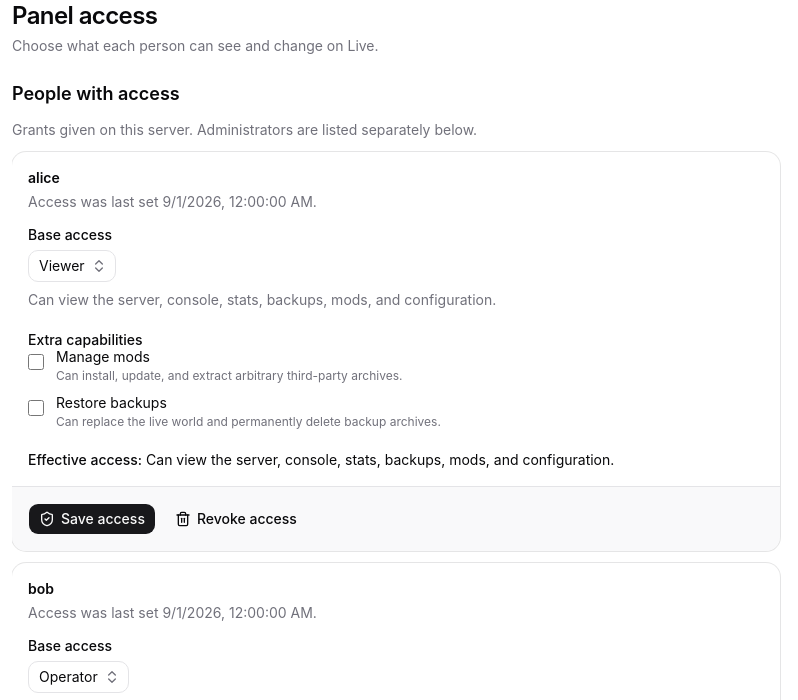
Test: unsaved edits while another person changes › overwrites a stale grant with the current etag and leaves other edits alone
The image size is (798, 700).
Click the checkbox labelled "Manage mods".
click(36, 362)  # box [28,354,44,370]
(page scrolled)
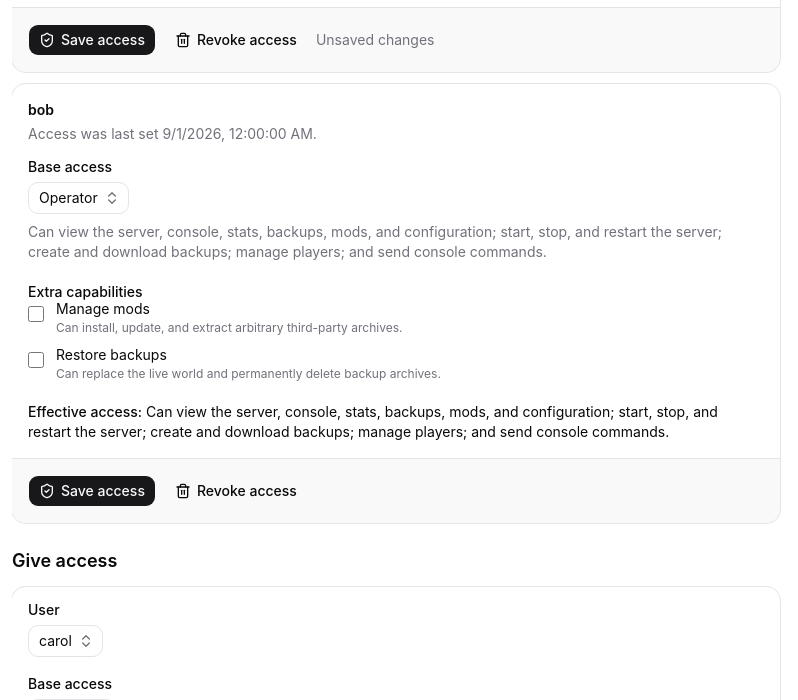
Click the checkbox labelled "Restore backups".
click(36, 360)  # box [28,352,44,368]
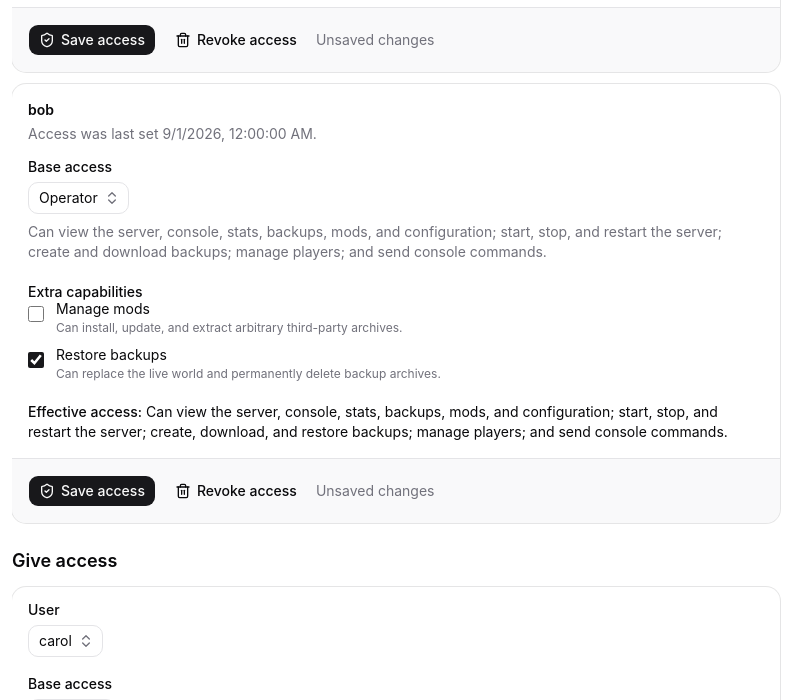
Click the 2nd button "Save access".
click(92, 491)  # box [28,475,156,507]
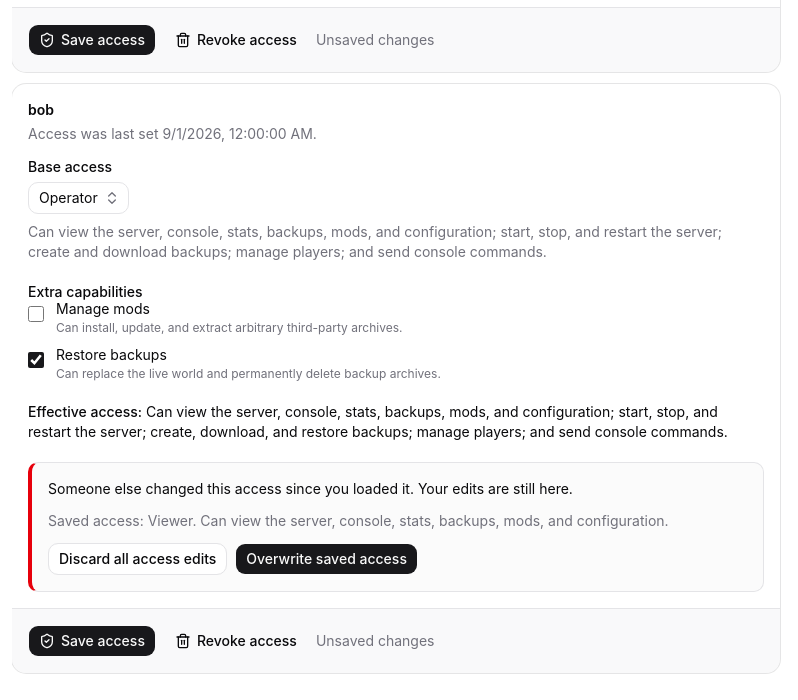
Click the button "Overwrite saved access".
click(327, 559)  # box [235,543,418,575]
(page scrolled)
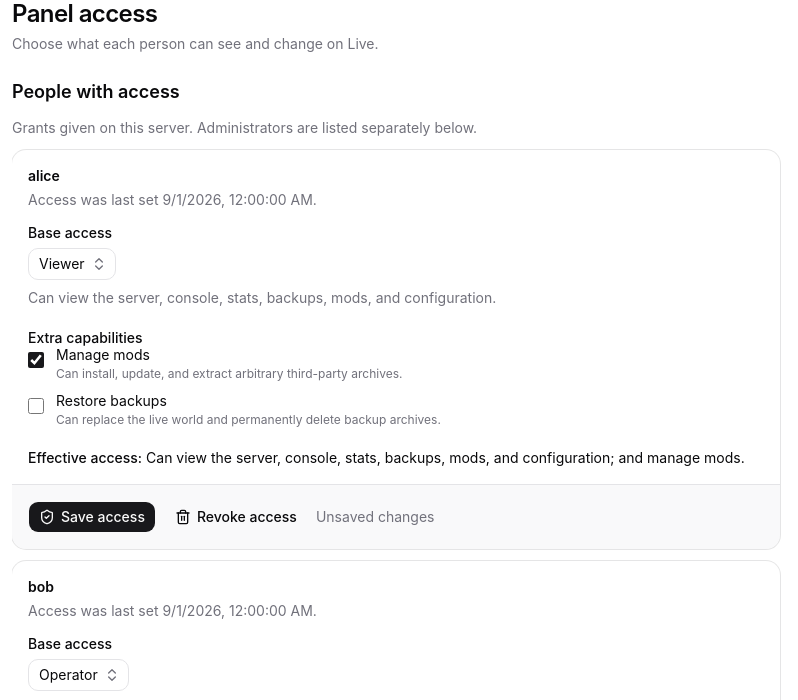
Now the checkbox labelled "Manage mods" is checked, box [28,352,44,368]
Now the text "Someone else changed" is gone
